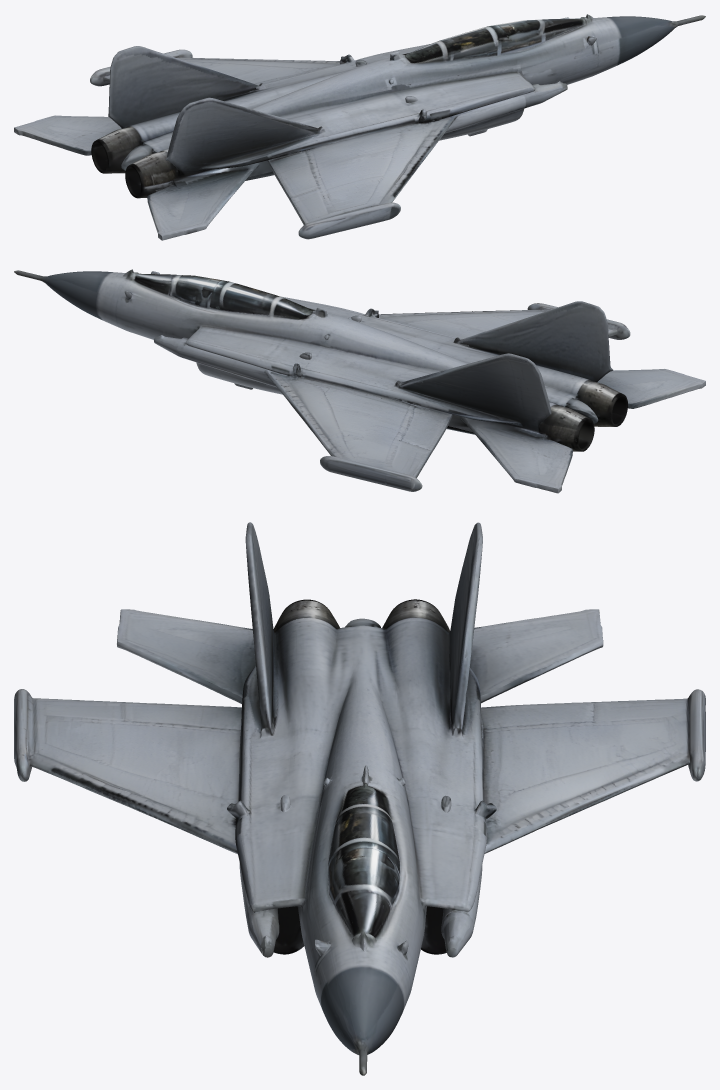
Rendered from fh_hangar_fighter_2.glb.
The picture shows the model from 3 angles, top to bottom: view 1: azimuth 30°, elevation 25°; view 2: azimuth 150°, elevation 25°; view 3: azimuth 270°, elevation 25°; orthographic projection. The views are drawn at different scales.
Parts seen in each view (by area): view 1: GLTF; view 2: GLTF; view 3: GLTF.
Boxes of the visible parts, <box> form: GLTF: <box>14,14,705,240</box>; GLTF: <box>14,269,705,493</box>; GLTF: <box>14,522,705,1075</box>.
Bounding box in the file's own units: 1 × 0.1753 × 0.5998.
Materials: 1 (1 with a texture image).
